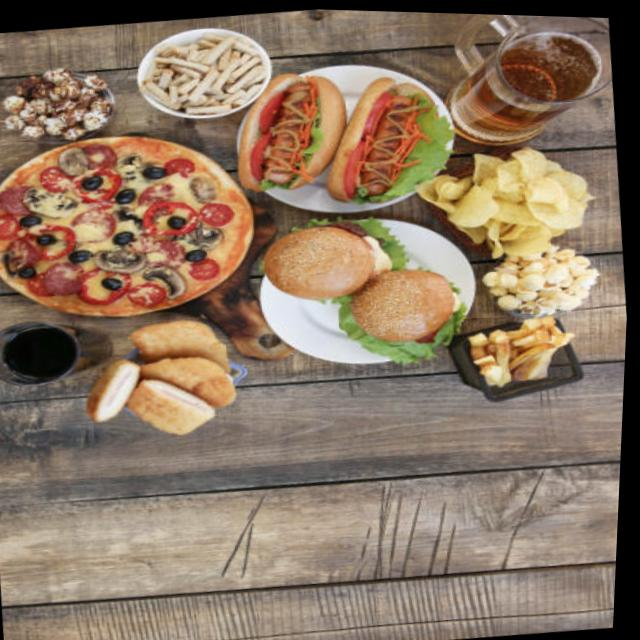burger: (259, 215, 395, 303), (345, 258, 470, 351)
pizza: (0, 119, 270, 331)
